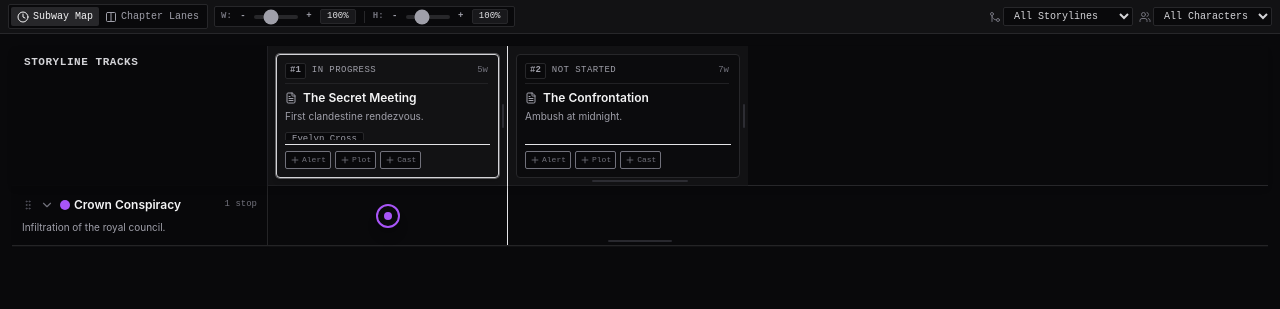
Test: TimelineView › renders empty folders as a compact structural divider without empty scene block
Note: Switch to Chapter Lanes view where structural folders are rendered
What coordinates should you click on to do the following:
click the button "Chapter Lanes"
I would click on:
 (152, 16)
Its box is [99,7,205,26].
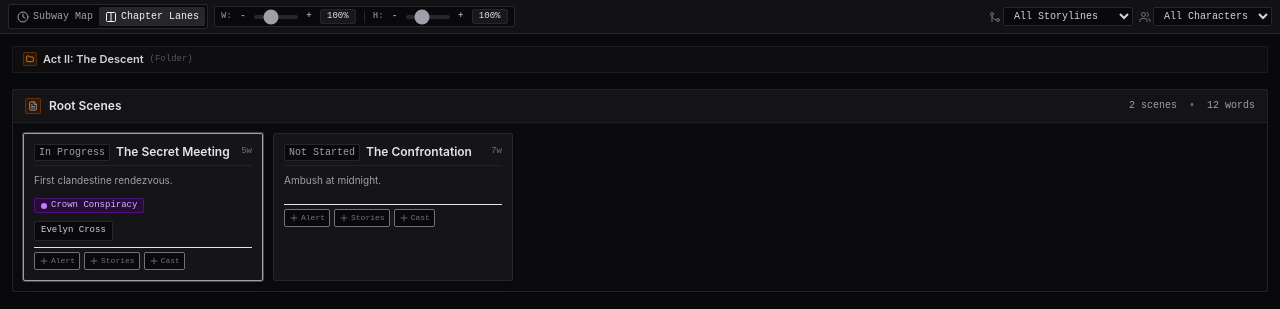
Expected: the text "Act II: The Descent" is shown, [43,51,144,68]
Expected: the text "(Folder)" is shown, [150,52,193,66]
